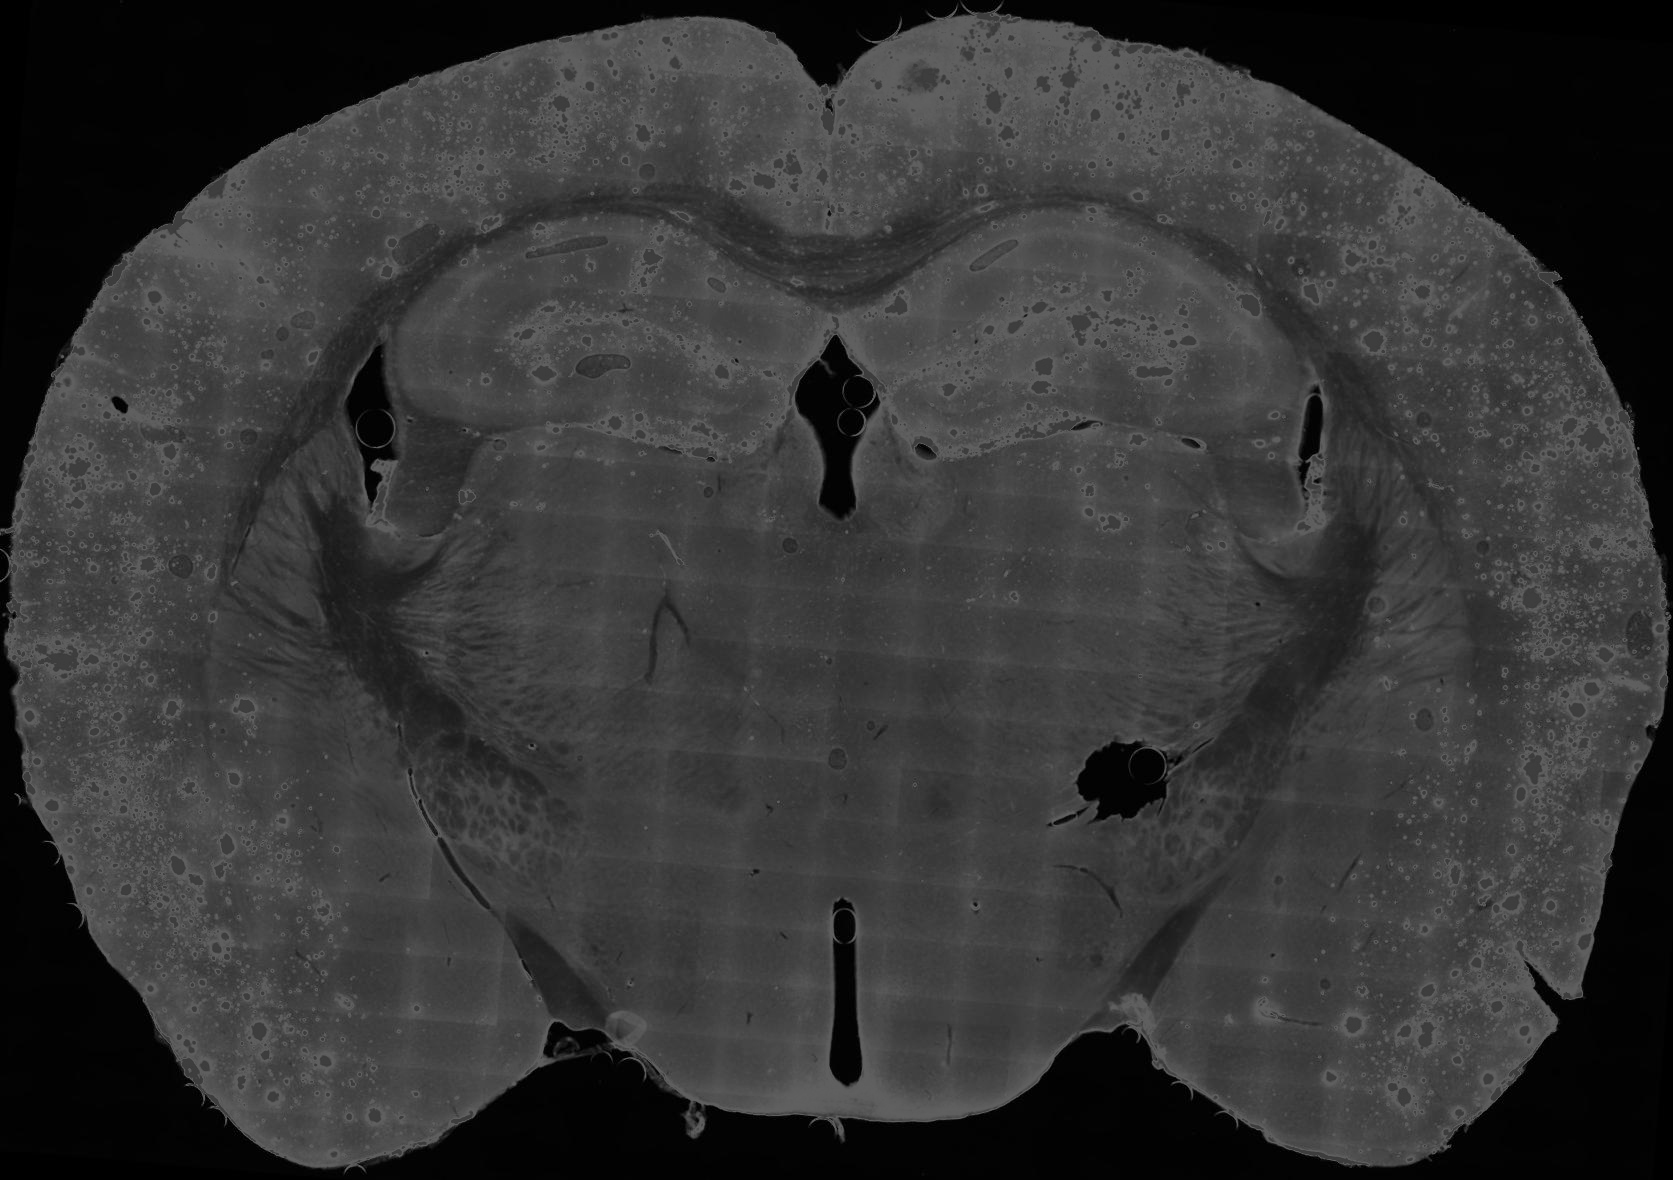Cerebral nuclei: (211, 407, 400, 851), (1335, 421, 1467, 799)
Hippocampal formation: (836, 212, 1300, 458), (395, 213, 836, 460)
Hypothalamus: (839, 801, 1229, 1121), (442, 820, 849, 1117)
Retrosplenial area: (713, 36, 829, 241), (831, 40, 950, 240)
Somatosensory area: (8, 34, 604, 599), (1074, 36, 1655, 604)
Thalamus: (839, 396, 1301, 874), (395, 401, 842, 879)
